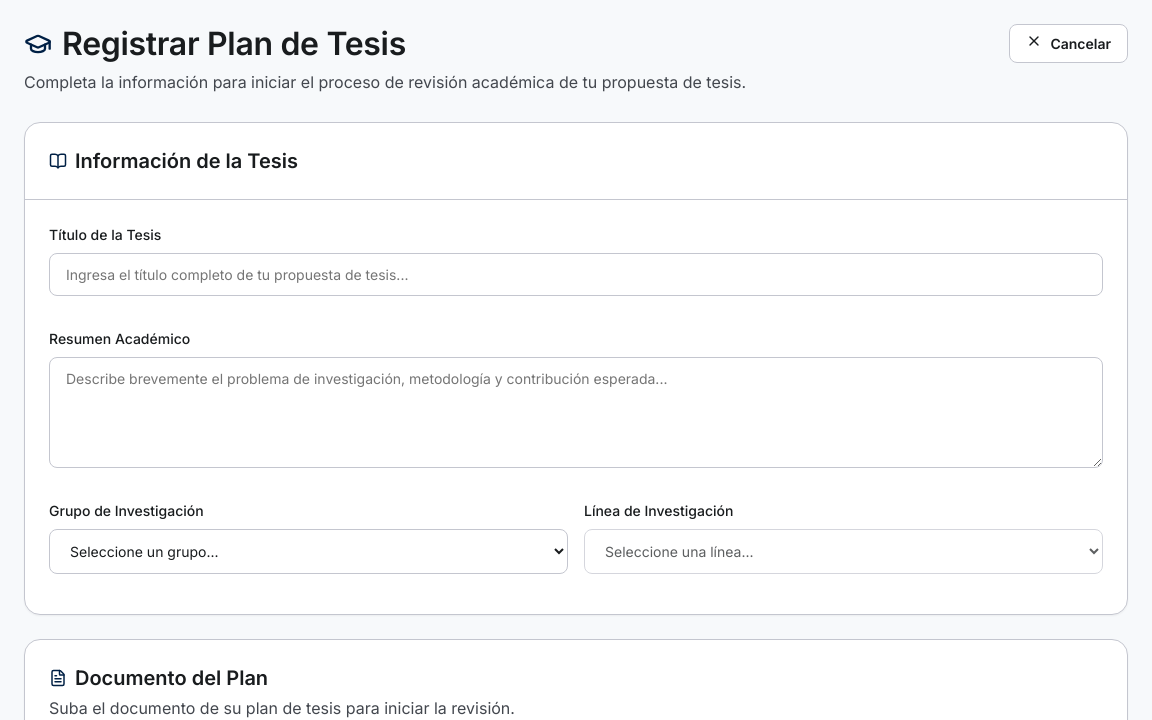
Test: NewThesisPlan › shows coordinator info when group with coordinator is selected
This screenshot has width=1152, height=720.
Select "GI-SOFT" in the dropdown labelled "Grupo de Investigación" at (308, 552), box 49,529 -> 568,574
(page scrolled)
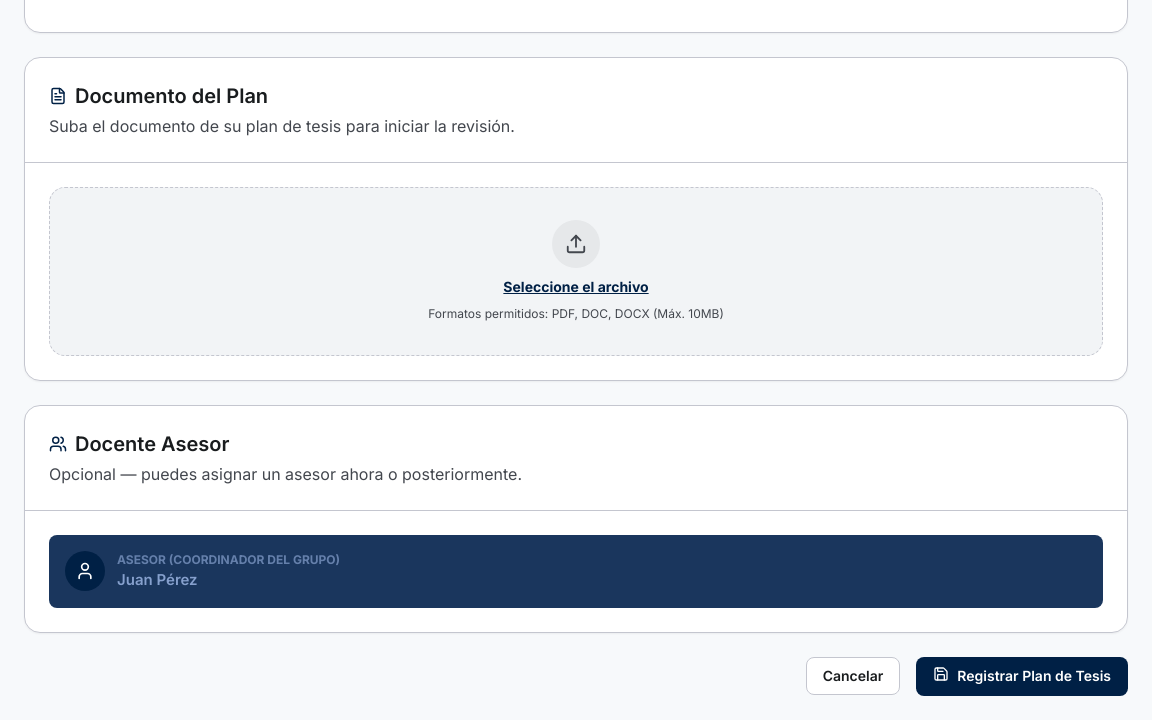
Now the text "Juan Pérez" is shown, box 117,570 -> 198,589
